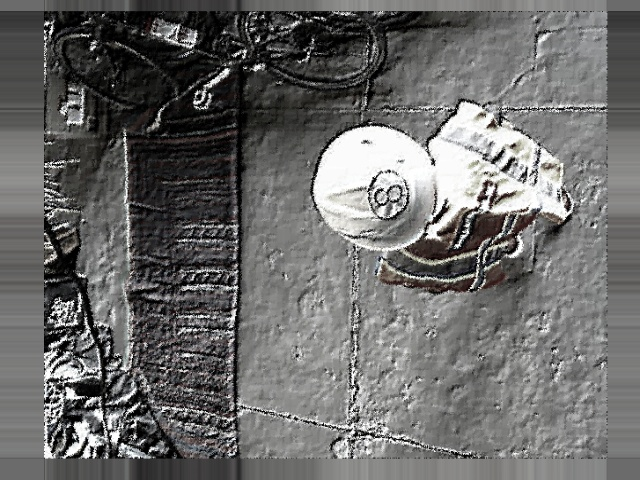eight: (366, 169, 407, 218)
